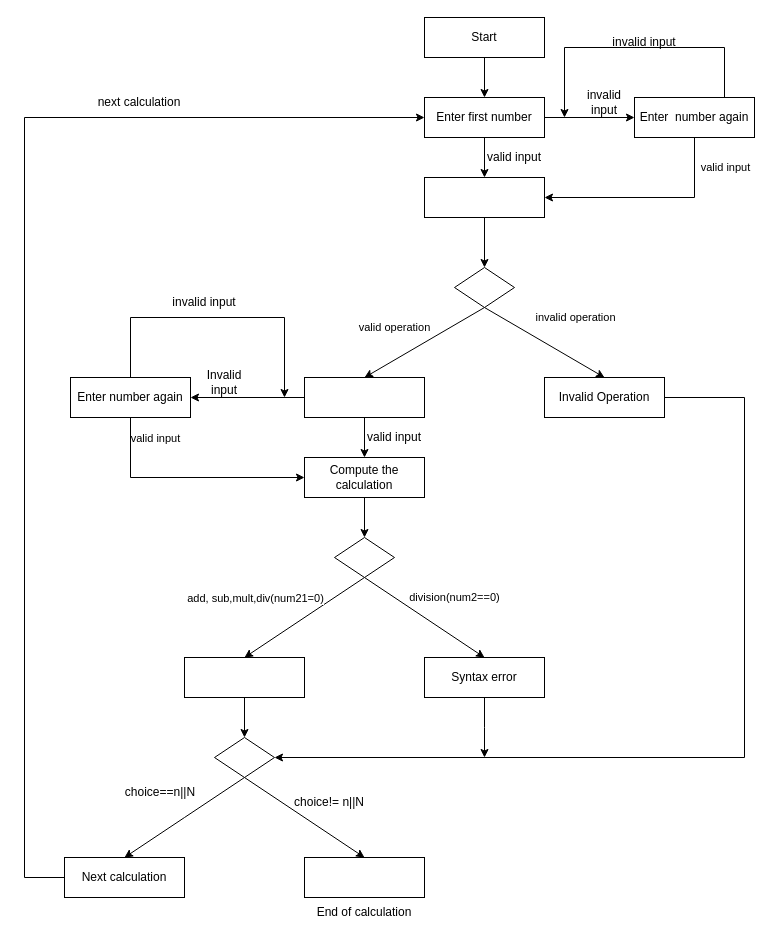
Some shapes in this 772 by 945 pixel diagram are drawn without their labels. The centre of each missing label's shape, as x and y in pixels:
"Calculator Closed" goes at pixel 364 877.
"Enter Operation" goes at pixel 484 197.
"Enter Second number" goes at pixel 364 397.
"Result" goes at pixel 244 677.
